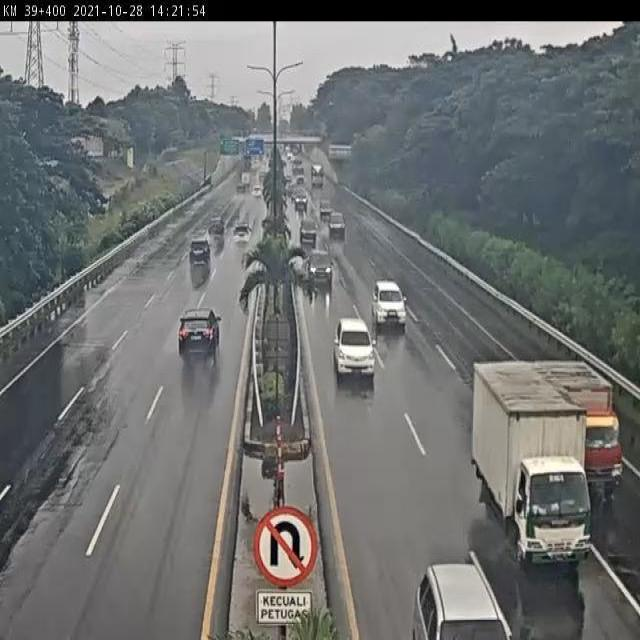car: (333, 316, 376, 379), (176, 306, 222, 362), (370, 280, 408, 328), (307, 250, 333, 282), (187, 238, 212, 266), (231, 220, 254, 247), (207, 215, 226, 236)
truck-m-: (472, 360, 593, 569)
truck-s-: (535, 361, 622, 499)
